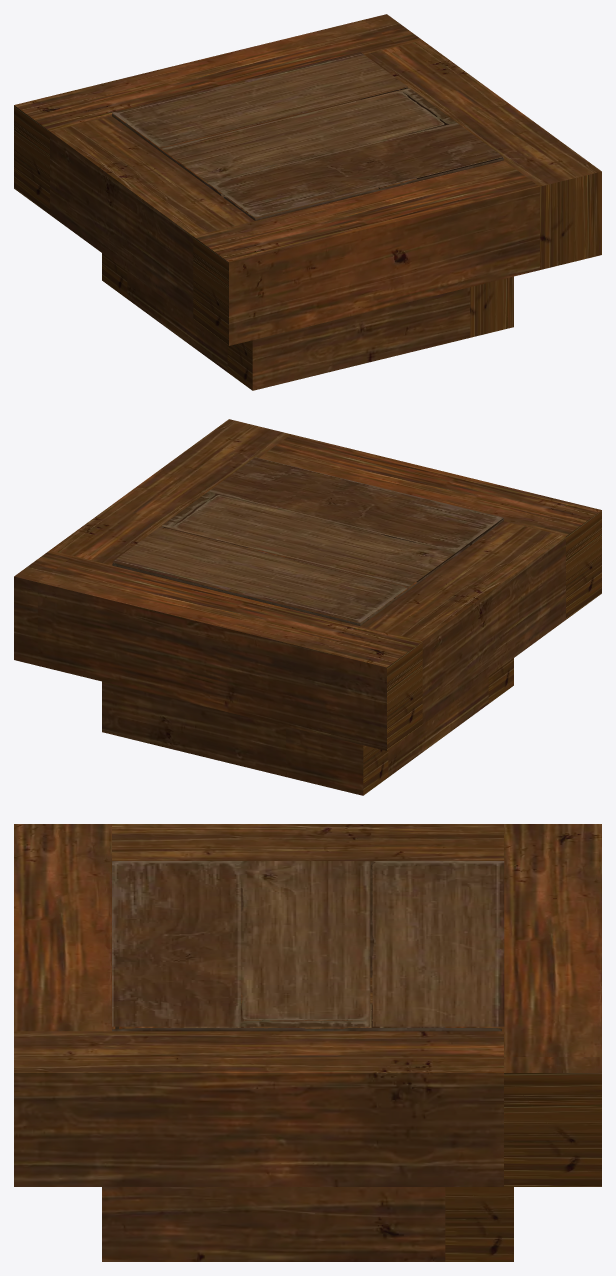
The picture shows the model from 3 angles, top to bottom: view 1: azimuth 30°, elevation 25°; view 2: azimuth 150°, elevation 25°; view 3: azimuth 270°, elevation 25°; orthographic projection. The views are drawn at different scales.
Visible parts, largest first — view 1: SM_BB_Tier2_Floor_Small_LOD0; view 2: SM_BB_Tier2_Floor_Small_LOD0; view 3: SM_BB_Tier2_Floor_Small_LOD0.
Boxes of the visible parts, <box> form: SM_BB_Tier2_Floor_Small_LOD0: <box>14,14,601,390</box>; SM_BB_Tier2_Floor_Small_LOD0: <box>14,419,601,795</box>; SM_BB_Tier2_Floor_Small_LOD0: <box>14,824,601,1261</box>.
Bounding box in the file's own units: 1.13 × 0.4874 × 1.12.
2 materials, 2 textured.
